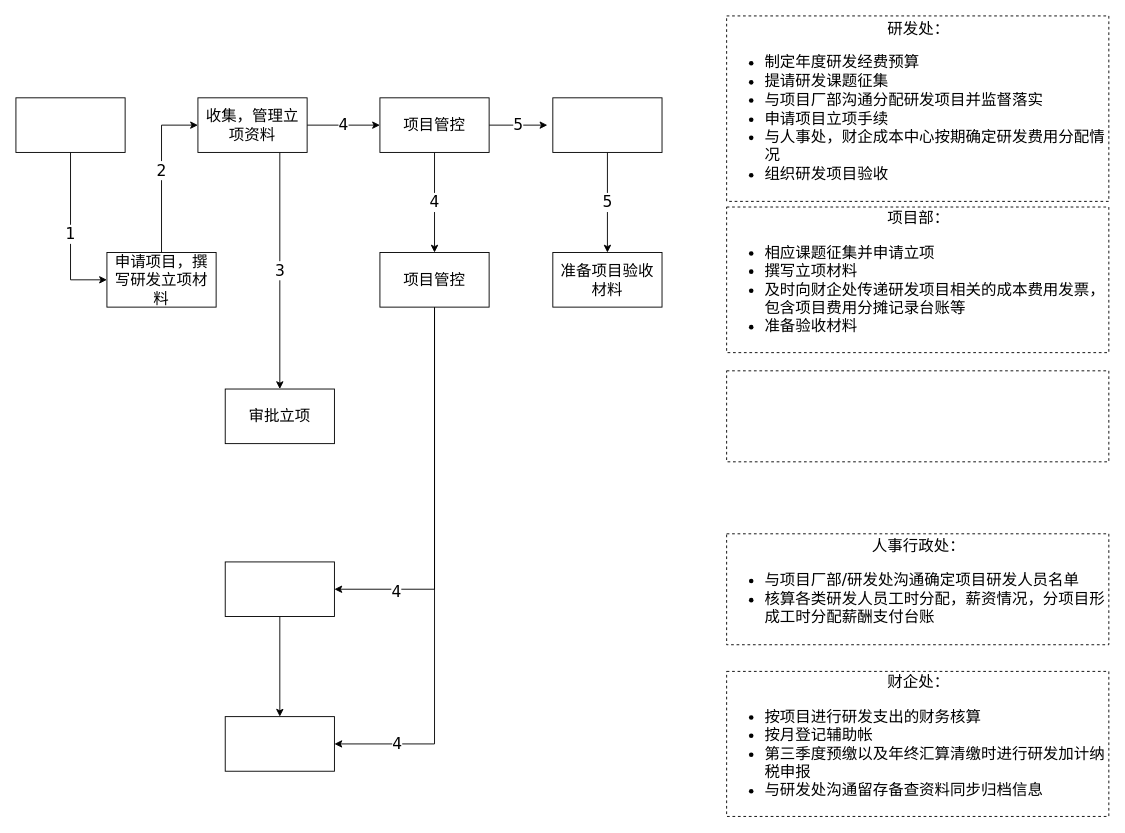
This 1125x833 diagram has some shape labels left out. Each missing label, with the centre of its shape:
公司经理办公会： 审批立项: point (917, 416)
研发项目费用明细核算，申报管理: point (279, 743)
确认并核算研发人员工时，薪资: point (279, 589)
组织项目验收: point (607, 124)
调研并发起征集研发课题: point (70, 124)
